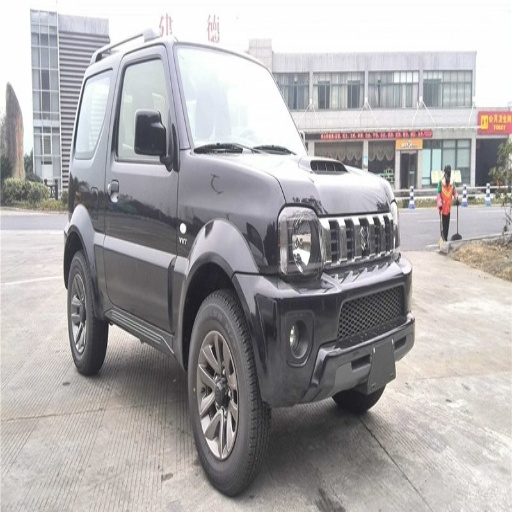front_bumper: (240, 206, 411, 403)
front_glass: (180, 49, 299, 152)
front_right_door: (104, 47, 179, 327)
front_right_light: (259, 203, 332, 288)
